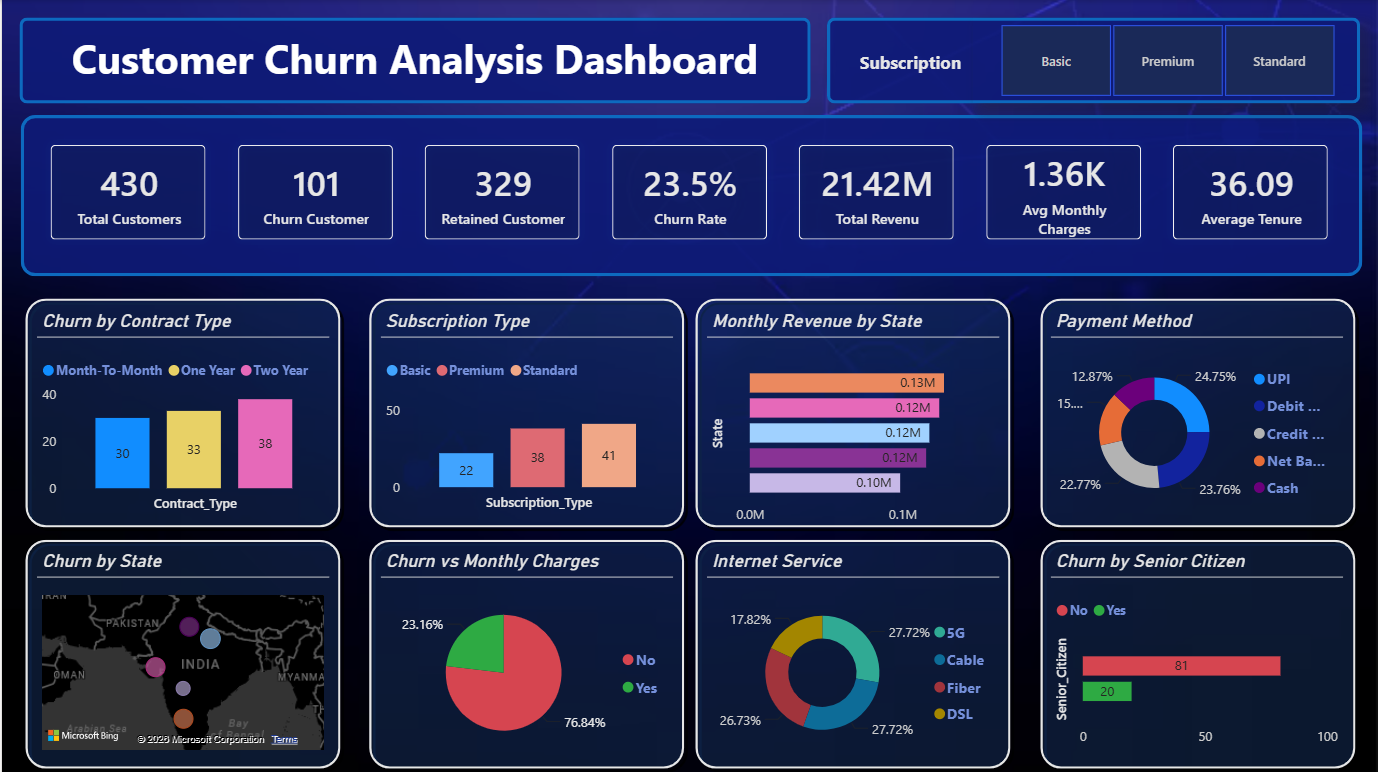

The dashboard page shown, as its layout file describes it:
{"tool":"powerbi","page":{"name":"Page 1","canvas":[1280,720],"ordinal":0},"visuals":[{"type":"shape","box":[640,496,304,224],"z":0},{"type":"shape","box":[960,496,304,224],"z":1000},{"type":"shape","box":[336,496,304,224],"z":2000},{"type":"shape","box":[640,272,304,224],"z":3000},{"type":"shape","box":[336,272,304,224],"z":4000},{"type":"shape","box":[16,496,304,224],"z":5000},{"type":"shape","box":[16,272,304,224],"z":6000},{"type":"shape","box":[18,107,1248,150],"z":7000},{"type":"cardVisual","fields":{"Data":["Measures Table.Total Customers","Measures Table.Churn Customer","Measures Table.Retained Customer","Measures Table.Churn Rate","Measures Table.Total Revenu","Measures Table.Average Monthly Charges","Measures Table.Average Tenure"]},"box":[18,107,1248,144],"z":8000},{"type":"shape","box":[16,16,736,80],"z":9000},{"type":"textbox","box":[16,24,736,64],"z":10000},{"type":"columnChart","title":"Subscription Type","fields":{"Category":["Churn_data.Subscription_Type"],"Y":["Sum(Churn_data.Churn_Flag)"],"Series":["Churn_data.Subscription_Type"]},"box":[352,288,272,191],"z":11000},{"type":"pieChart","title":"Churn vs Monthly Charges","fields":{"Category":["Churn_data.Churn"],"Y":["Sum(Churn_data.Monthly_Charges)"]},"box":[352,512,272,191],"z":12000},{"type":"barChart","title":"Monthly Revenue by State","fields":{"Category":["Churn_data.State"],"Y":["Sum(Churn_data.Monthly_Revenue)"]},"box":[656,288,272,208],"z":13000},{"type":"columnChart","title":"Churn by Contract Type","fields":{"Y":["Sum(Churn_data.Churn_Flag)"],"Series":["Churn_data.Contract_Type"],"Category":["Churn_data.Contract_Type"]},"box":[32,288,272,192],"z":14000},{"type":"map","title":"Churn by State","fields":{"Category":["Churn_data.State"],"Size":["Sum(Churn_data.Churn_Flag)"]},"box":[32,512,272,191],"z":15000},{"type":"donutChart","title":"Internet Service","fields":{"Y":["Sum(Churn_data.Churn_Flag)"],"Category":["Churn_data.Internet_Service"]},"box":[656,512,272,191],"z":16000},{"type":"shape","box":[768,16,496,80],"z":17000},{"type":"barChart","title":"Churn by Senior Citizen","fields":{"Y":["Sum(Churn_data.Churn_Flag)"],"Category":["Churn_data.Senior_Citizen"],"Series":["Churn_data.Senior_Citizen"]},"box":[976,512,272,191],"z":18000},{"type":"slicer","fields":{"Values":["Churn_data.Subscription_Type"]},"box":[904,16,360,80],"z":19000},{"type":"shape","box":[960,272,304,224],"z":20000},{"type":"donutChart","title":"Payment Method","fields":{"Category":["Churn_data.Payment_Method"],"Y":["Sum(Churn_data.Churn_Flag)"]},"box":[976,288,272,191],"z":21000},{"type":"textbox","box":[784,40,128,40],"z":21501}]}

Visuals, with their boxes in screenshot pixels (x1, y1, x2, y2), scaled from the page's 1280x720 canvas onto the 1378x772 screenshot:
shape: [left=689, top=532, right=1016, bottom=771]
shape: [left=1034, top=532, right=1361, bottom=771]
shape: [left=362, top=532, right=689, bottom=771]
shape: [left=689, top=292, right=1016, bottom=532]
shape: [left=362, top=292, right=689, bottom=532]
shape: [left=17, top=532, right=344, bottom=771]
shape: [left=17, top=292, right=344, bottom=532]
shape: [left=19, top=115, right=1363, bottom=276]
cardVisual - Measures Table.Total Customers x Measures Table.Churn Customer: [left=19, top=115, right=1363, bottom=269]
shape: [left=17, top=17, right=810, bottom=103]
textbox: [left=17, top=26, right=810, bottom=94]
"Subscription Type" columnChart: [left=379, top=309, right=672, bottom=514]
"Churn vs Monthly Charges" pieChart: [left=379, top=549, right=672, bottom=754]
"Monthly Revenue by State" barChart: [left=706, top=309, right=999, bottom=532]
"Churn by Contract Type" columnChart: [left=34, top=309, right=327, bottom=515]
"Churn by State" map: [left=34, top=549, right=327, bottom=754]
"Internet Service" donutChart: [left=706, top=549, right=999, bottom=754]
shape: [left=827, top=17, right=1361, bottom=103]
"Churn by Senior Citizen" barChart: [left=1051, top=549, right=1344, bottom=754]
slicer - Churn_data.Subscription_Type: [left=973, top=17, right=1361, bottom=103]
shape: [left=1034, top=292, right=1361, bottom=532]
"Payment Method" donutChart: [left=1051, top=309, right=1344, bottom=514]
textbox: [left=844, top=43, right=982, bottom=86]
